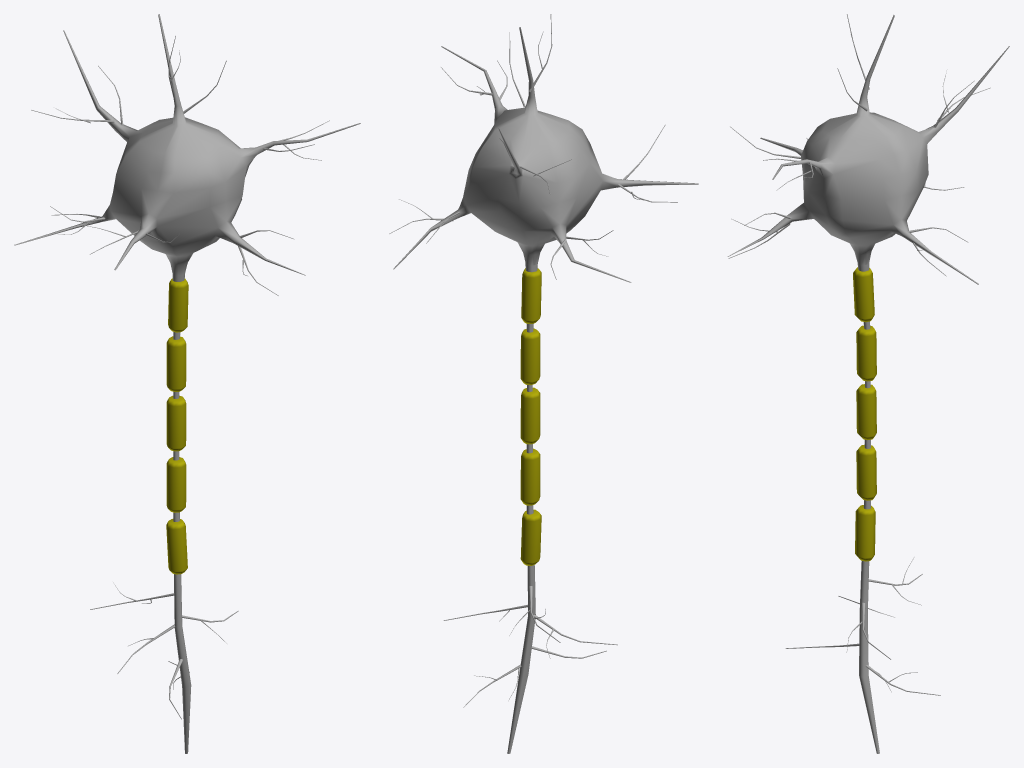
Rendered from Neuron.fbx.
3 views of the same model, side by side, from view 1: azimuth 30°, elevation 25°; view 2: azimuth 150°, elevation 25°; view 3: azimuth 270°, elevation 25° (orthographic).
Parts seen in each view (by area): view 1: Neuron1; view 2: Neuron1; view 3: Neuron1.
Boxes of the visible parts, left/top/right/bottom form: Neuron1: left=14, top=14, right=360, bottom=753; Neuron1: left=389, top=14, right=698, bottom=753; Neuron1: left=727, top=14, right=1009, bottom=753.
Bounding box in the file's own units: 77.36 × 203 × 71.41.
